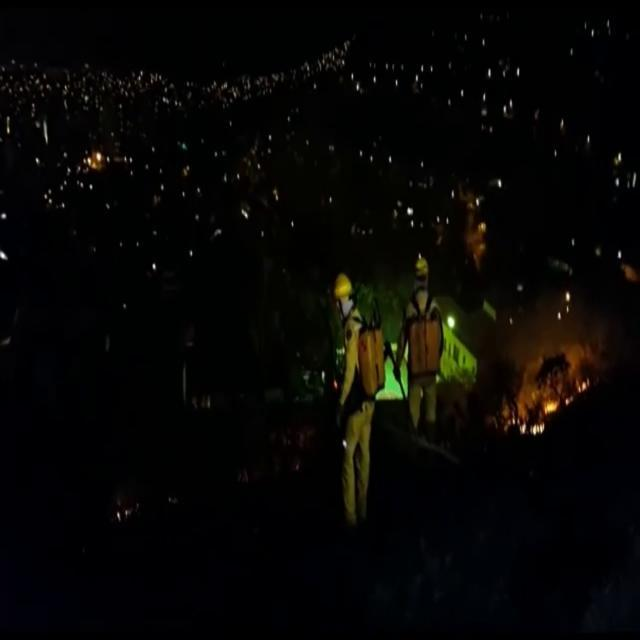Fire: (544, 396, 560, 414), (522, 424, 544, 436), (577, 376, 590, 392)
